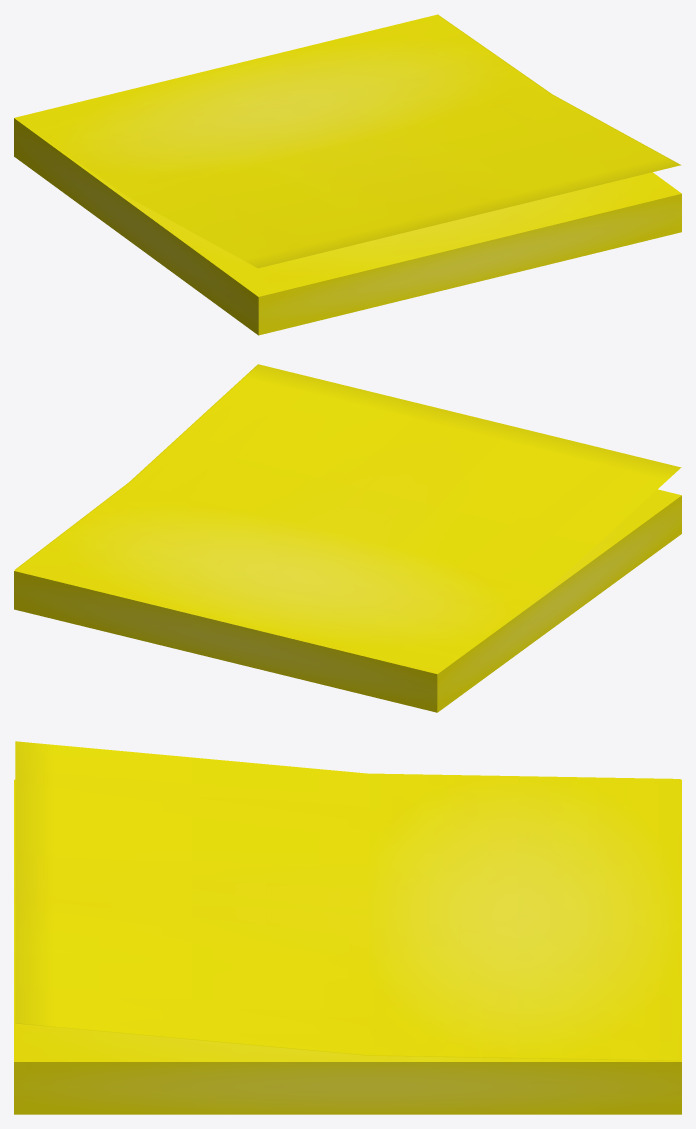
File: Stickynotes_A.FBX
3 renders of one model, top to bottom at view 1: azimuth 30°, elevation 25°; view 2: azimuth 150°, elevation 25°; view 3: azimuth 270°, elevation 25°, orthographic. The views are drawn at different scales.
Visible parts, largest first — view 1: Sticky_notes; view 2: Sticky_notes; view 3: Sticky_notes.
Part boxes in pixels (x1,y1,x2,y2): Sticky_notes: (14, 14, 681, 335); Sticky_notes: (14, 364, 681, 712); Sticky_notes: (14, 741, 681, 1114).
Bounding box in the file's own units: 23 × 3.46 × 23.
